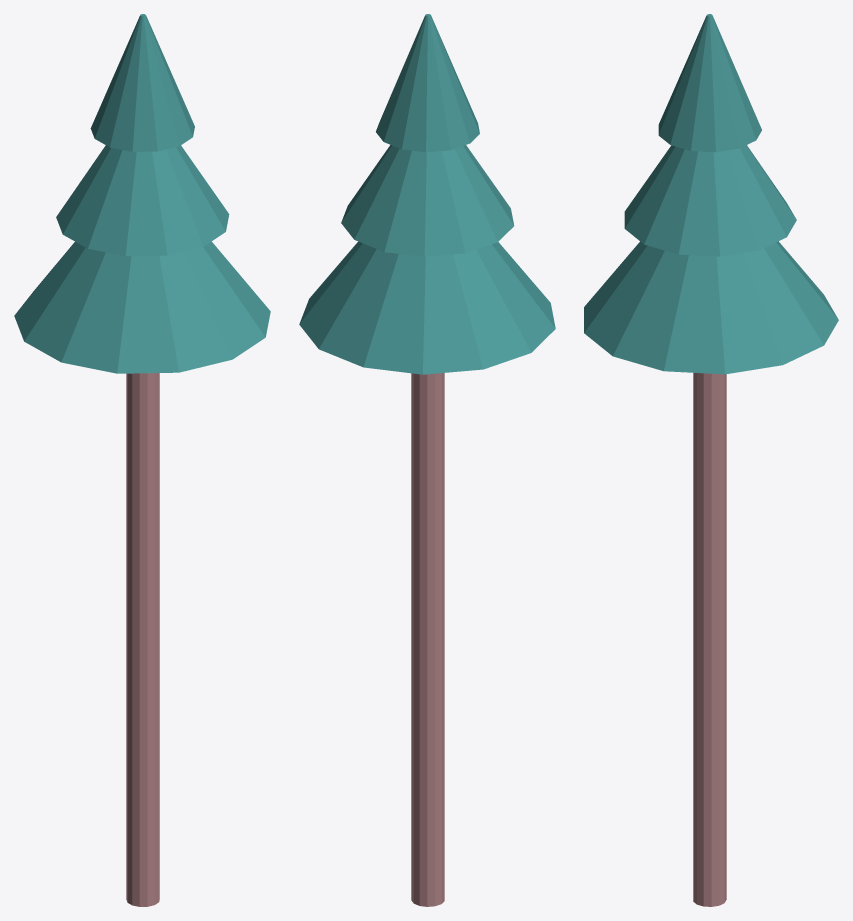
File: centenary_tree.glb
The picture shows the model from 3 angles, left to right: view 1: azimuth 30°, elevation 25°; view 2: azimuth 150°, elevation 25°; view 3: azimuth 270°, elevation 25°; orthographic projection.
Visible parts, largest first — view 1: Cylinder.040; view 2: Cylinder.040; view 3: Cylinder.040.
Part boxes in pixels (left/top/right/bottom): Cylinder.040: left=14, top=14, right=270, bottom=906; Cylinder.040: left=299, top=14, right=555, bottom=906; Cylinder.040: left=584, top=14, right=838, bottom=906.
Bounding box in the file's own units: 0.7271 × 2.76 × 0.7218.
